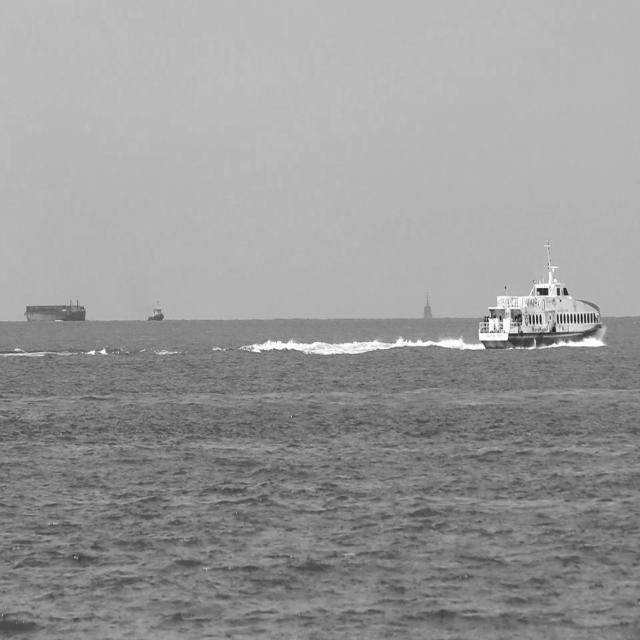ship: (472, 235, 610, 354), (21, 294, 87, 324), (144, 294, 166, 322)
